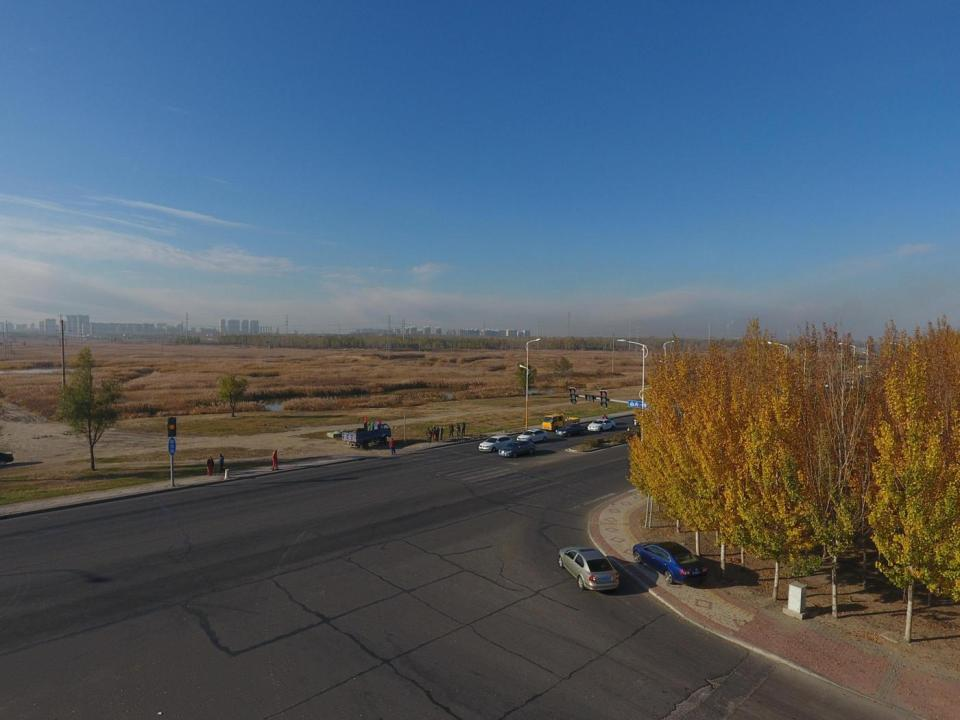car: (632, 541, 707, 584), (557, 545, 618, 591), (498, 441, 535, 458), (479, 436, 514, 452), (517, 429, 548, 443), (556, 422, 586, 436), (587, 419, 615, 431)
truck: (342, 420, 392, 449), (542, 413, 580, 430)
